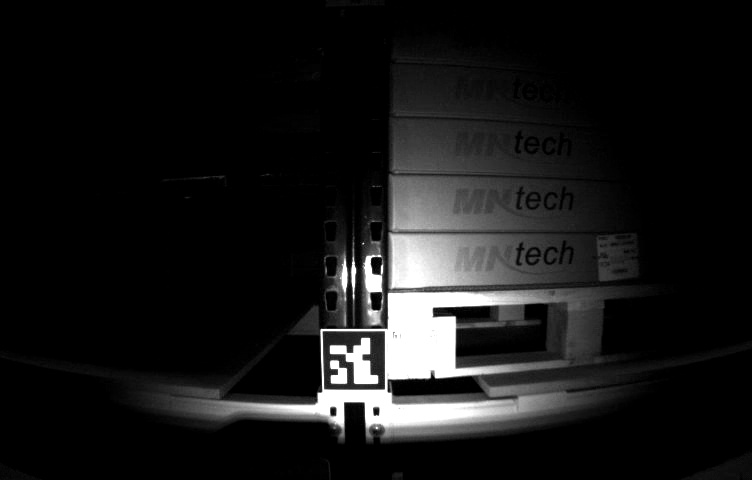True Barcode: (596, 230, 643, 279)
